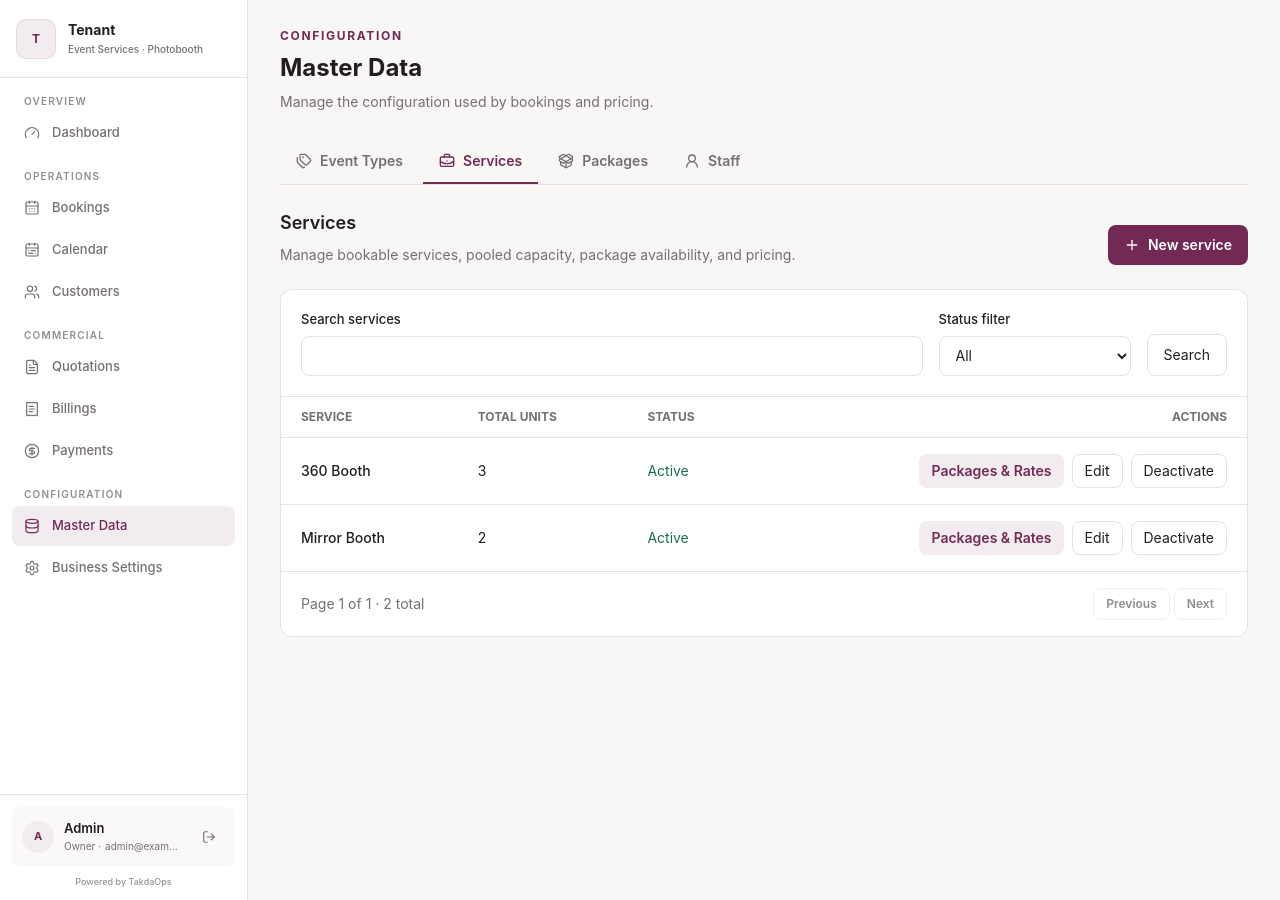
Test: shows different rates for the same reusable Package on different Services
The image size is (1280, 900).
What coordinates should you click on to do the following:
click the button "Packages & Rates" in the row of "360 Booth"
I would click on:
 (992, 470)
Its box is [920,454,1064,488].
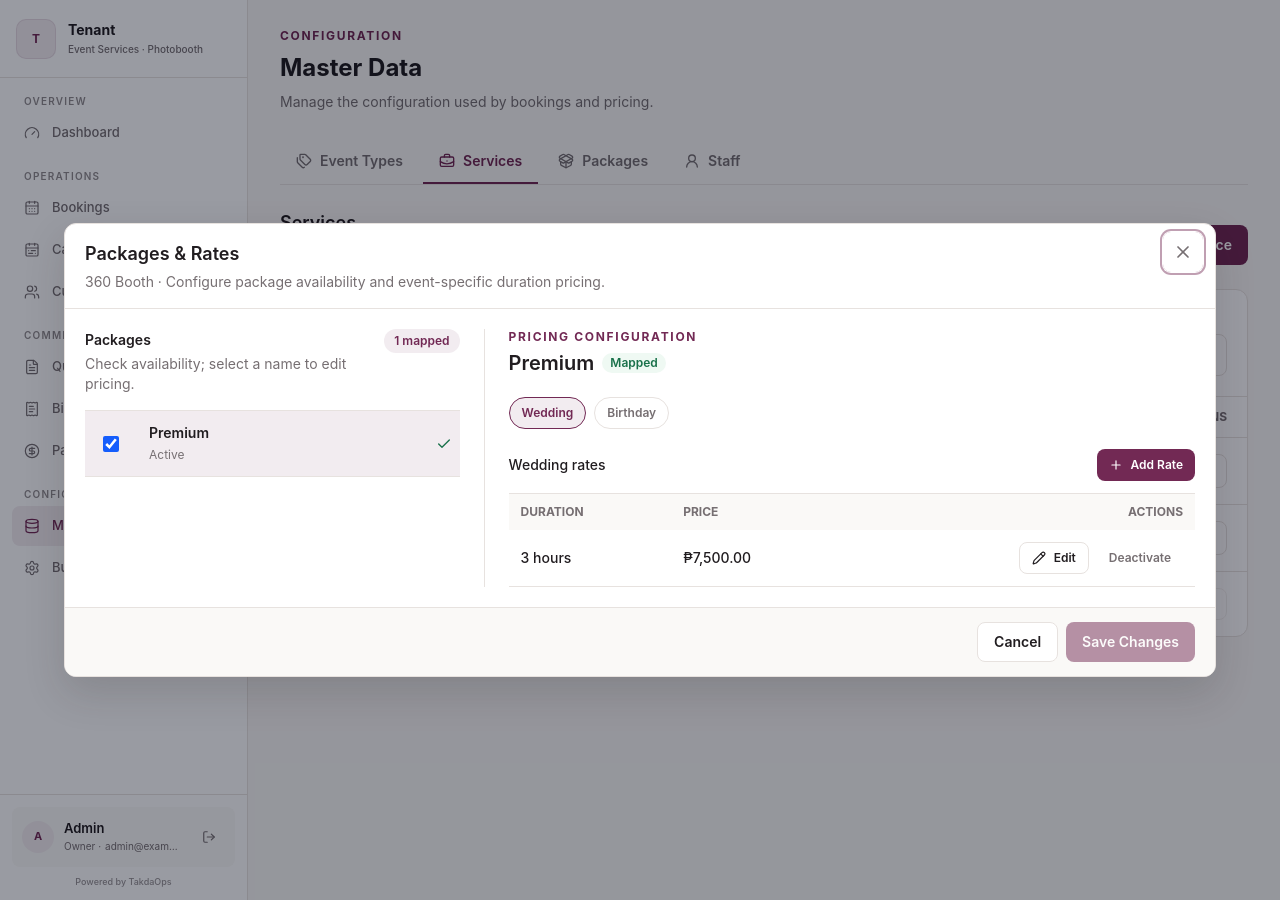
Now the dialog "Packages & Rates" is shown, box [64,223,1216,677]
Now the text "₱7,500.00" is shown, box [683,549,751,566]
What coordinates should you click on to do the following:
click the button named "Close dialog"
I would click on:
 (1183, 252)
Its box is [1163,232,1203,272].
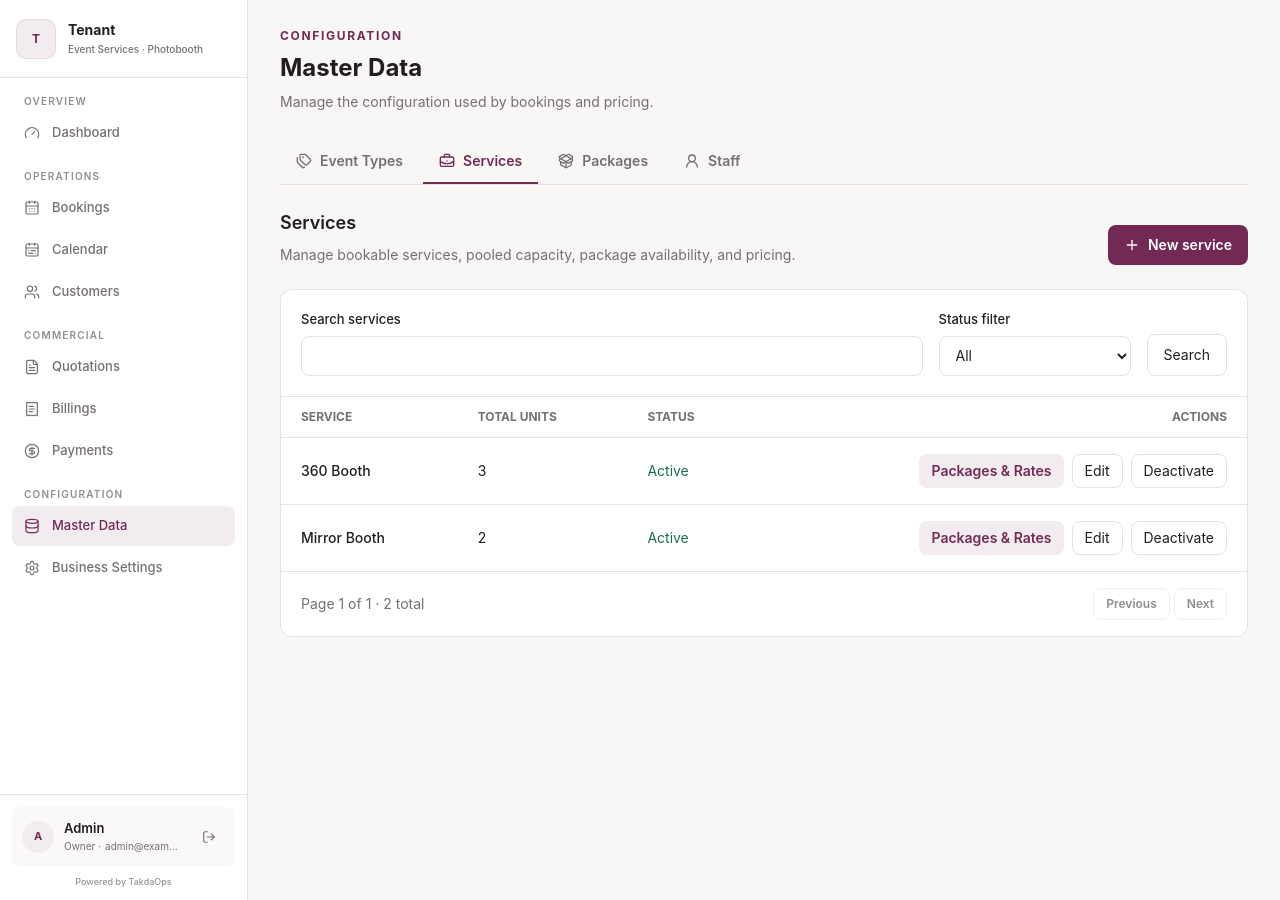
What coordinates should you click on to do the following:
click the button "Packages & Rates" in the row of "Mirror Booth"
I would click on:
 (992, 538)
Its box is [920,520,1064,554].
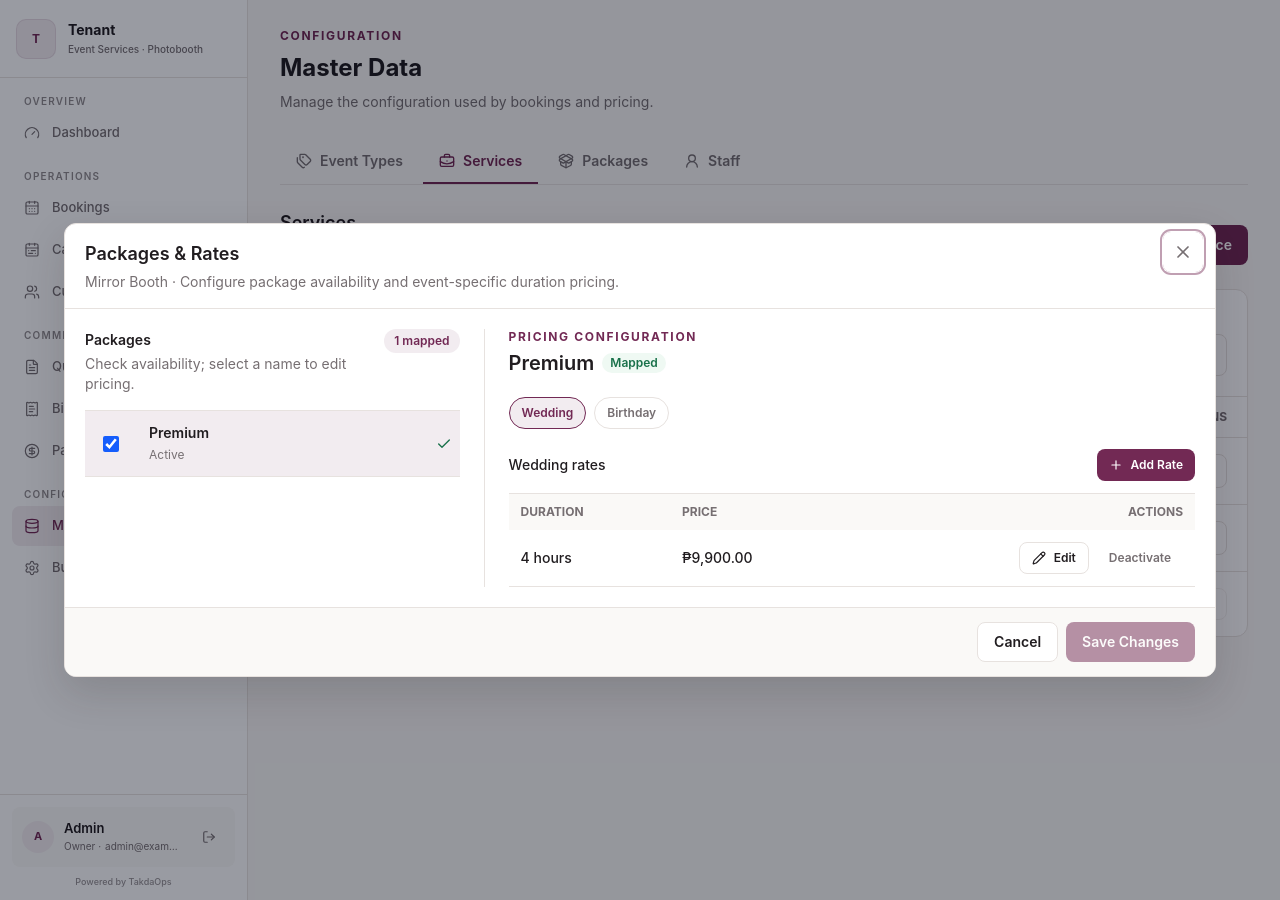
Expected: the text "₱7,500.00" is not shown
Now the dialog "Packages & Rates" is shown, box [64,223,1216,677]
Now the text "₱9,900.00" is shown, box [682,549,753,566]
